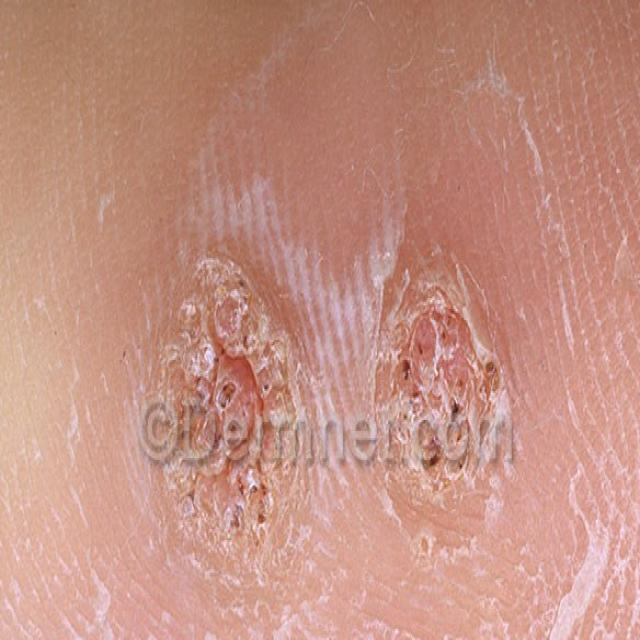Warts: (152, 239, 309, 584), (366, 231, 515, 565)
